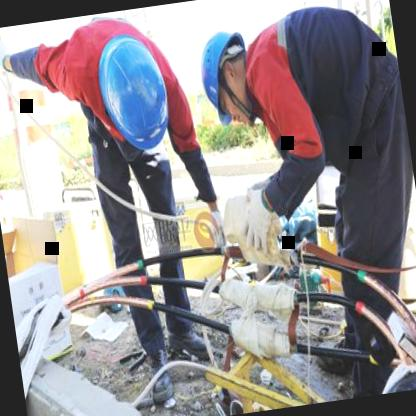helmet: (81, 16, 184, 169), (194, 27, 253, 116)
